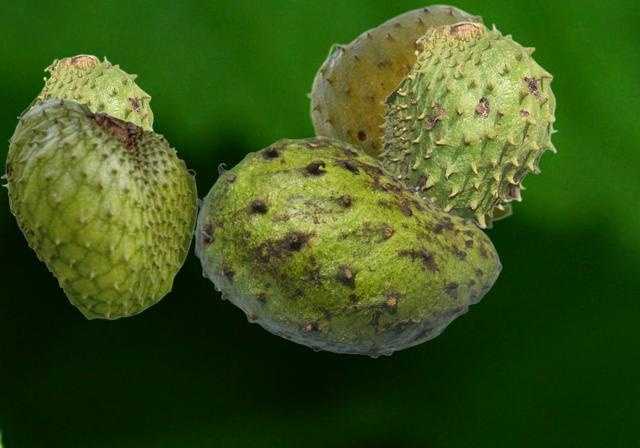guyabano: (192, 135, 501, 357), (305, 3, 513, 230), (5, 93, 197, 319), (375, 21, 557, 229), (0, 54, 154, 215)
